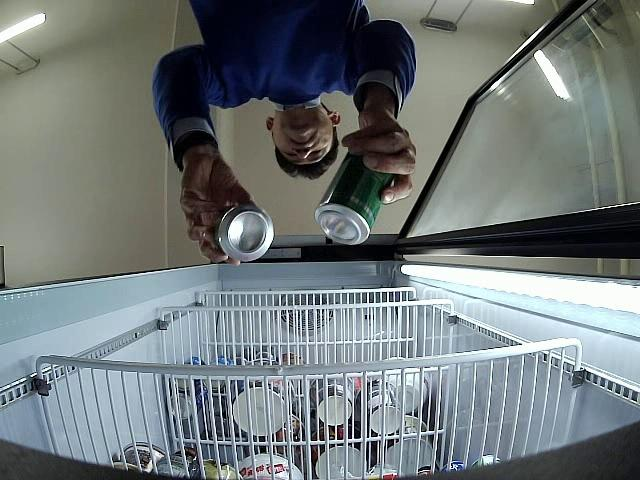00_hand: (180, 160, 253, 265), (342, 112, 416, 204)
12_chilsungCider: (313, 151, 393, 247), (213, 202, 274, 263)
